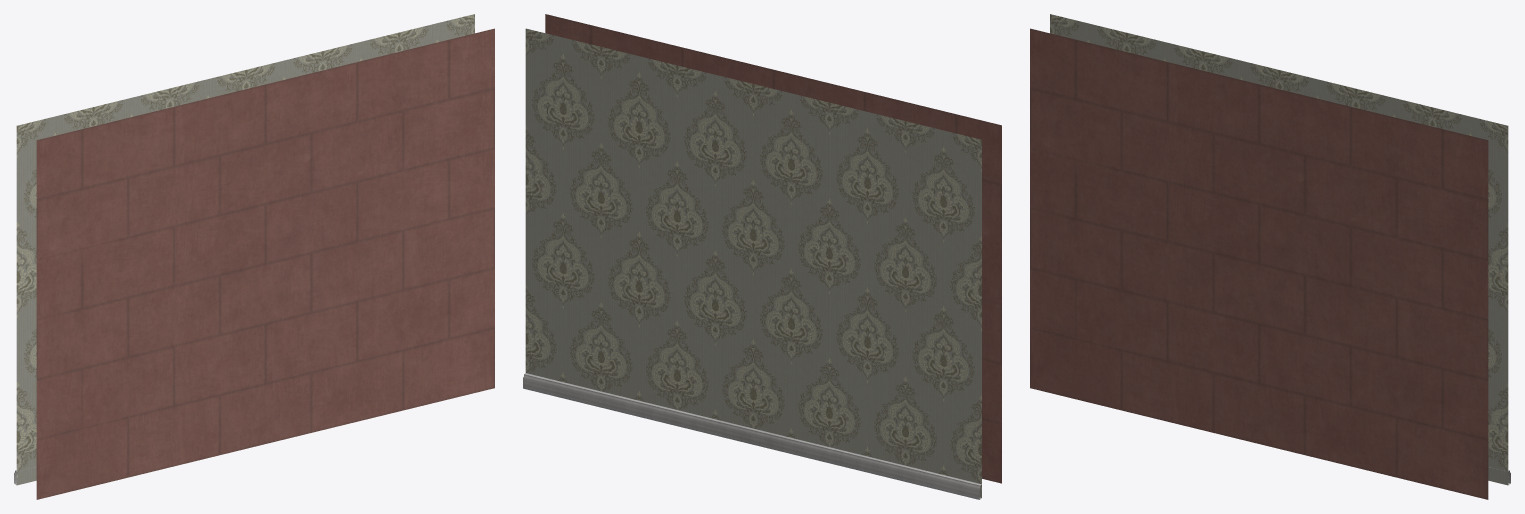
Rendered from House_04_Wall_01.fbx.
The picture shows the model from 3 angles, left to right: view 1: azimuth 30°, elevation 25°; view 2: azimuth 150°, elevation 25°; view 3: azimuth 330°, elevation 25°; orthographic projection.
Parts seen in each view (by area): view 1: House_04_Wall_01; view 2: House_04_Wall_01; view 3: House_04_Wall_01.
Boxes of the visible parts, x1,y1,x2,y2 form: House_04_Wall_01: (14,14,494,499); House_04_Wall_01: (523,14,1001,499); House_04_Wall_01: (1030,14,1510,499).
Size of the model in its own units: 400 by 300 by 33.93.
